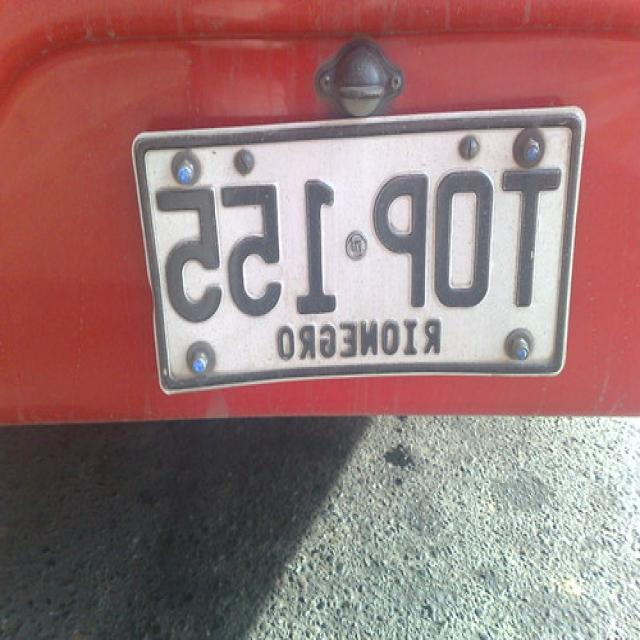placas: (146, 155, 563, 339)
